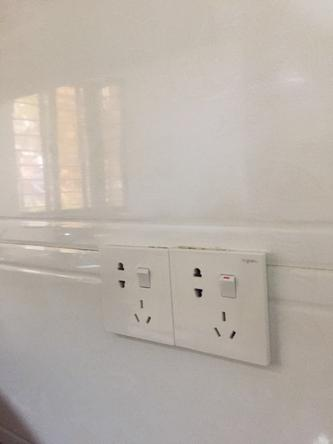switch: (220, 268, 238, 294), (135, 263, 152, 289)
